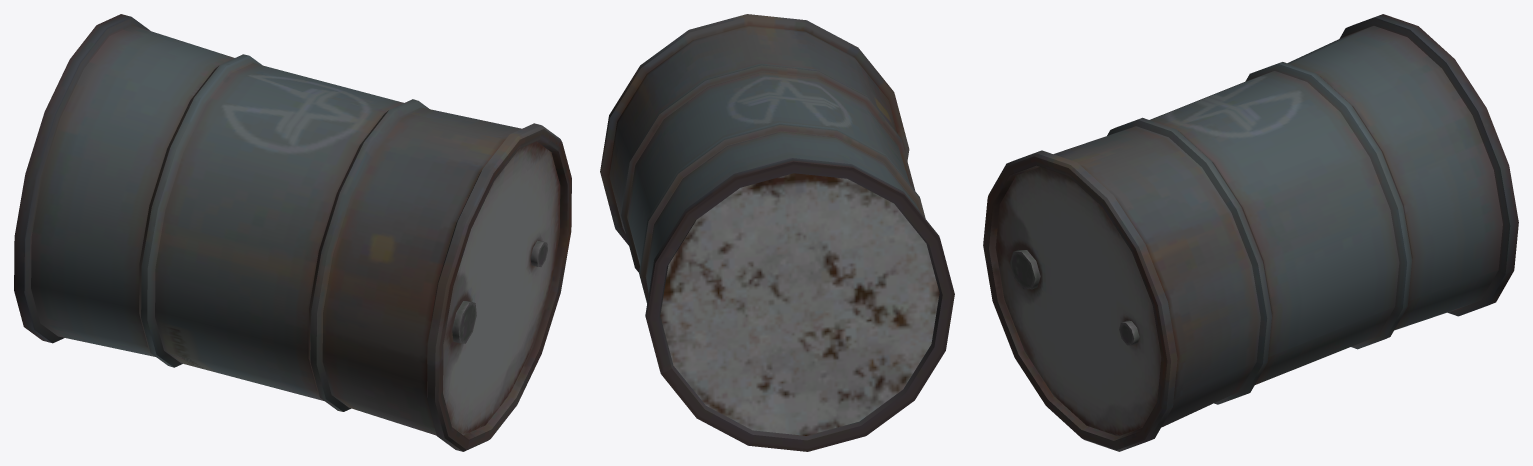
File: ItemSpot.fbx
The picture shows the model from 3 angles, left to right: view 1: azimuth 30°, elevation 25°; view 2: azimuth 150°, elevation 25°; view 3: azimuth 270°, elevation 25°; orthographic projection. The views are drawn at different scales.
Parts seen in each view (by area): view 1: ItemBox_Drum_W; view 2: ItemBox_Drum_W; view 3: ItemBox_Drum_W.
Part boxes in pixels (x1,y1,x2,y2): ItemBox_Drum_W: (14,14,571,451); ItemBox_Drum_W: (600,14,954,451); ItemBox_Drum_W: (983,14,1518,451).
Bounding box in the file's own units: 1.05 × 0.7212 × 1.11.
1 material, 1 textured.
